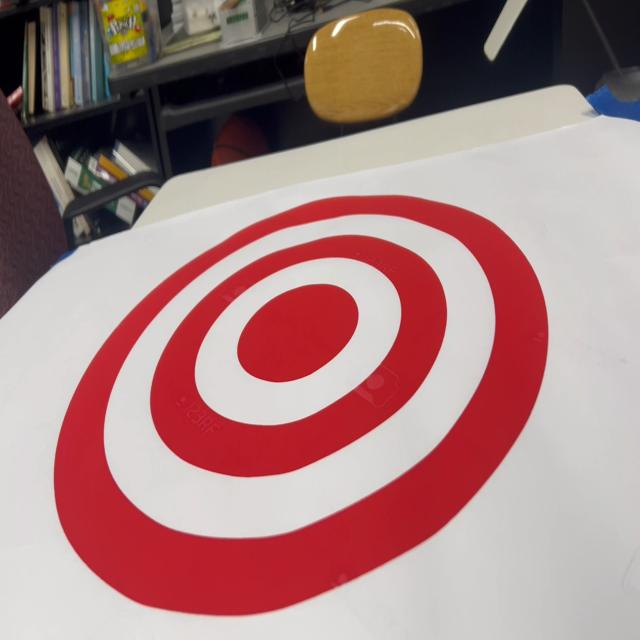target_red: (33, 187, 556, 637)
